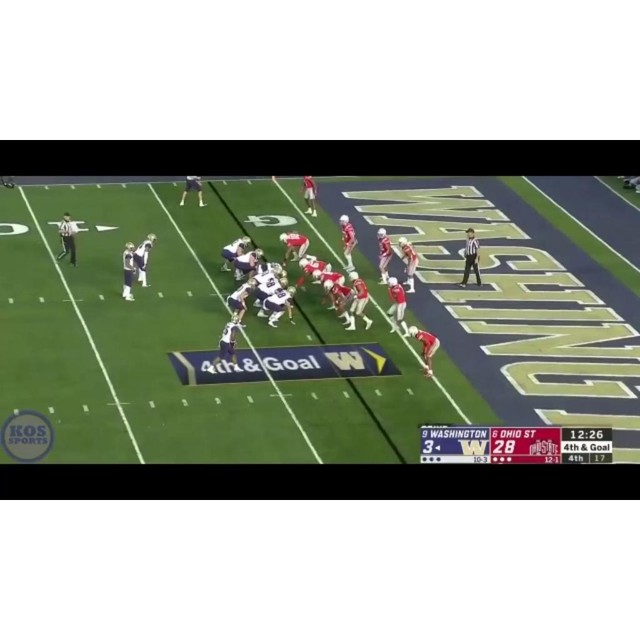american-football-player: (213, 313, 245, 372), (408, 326, 440, 378), (258, 287, 298, 328), (323, 279, 356, 327), (345, 273, 372, 331), (226, 279, 257, 325), (386, 276, 409, 336), (133, 233, 158, 288), (397, 236, 419, 292), (230, 248, 266, 281), (219, 236, 252, 272), (295, 258, 332, 290), (339, 214, 358, 273), (279, 231, 310, 265), (376, 227, 394, 284), (121, 241, 137, 302), (179, 176, 206, 207), (301, 175, 318, 217)
referee: (457, 228, 482, 289), (56, 211, 79, 267)
